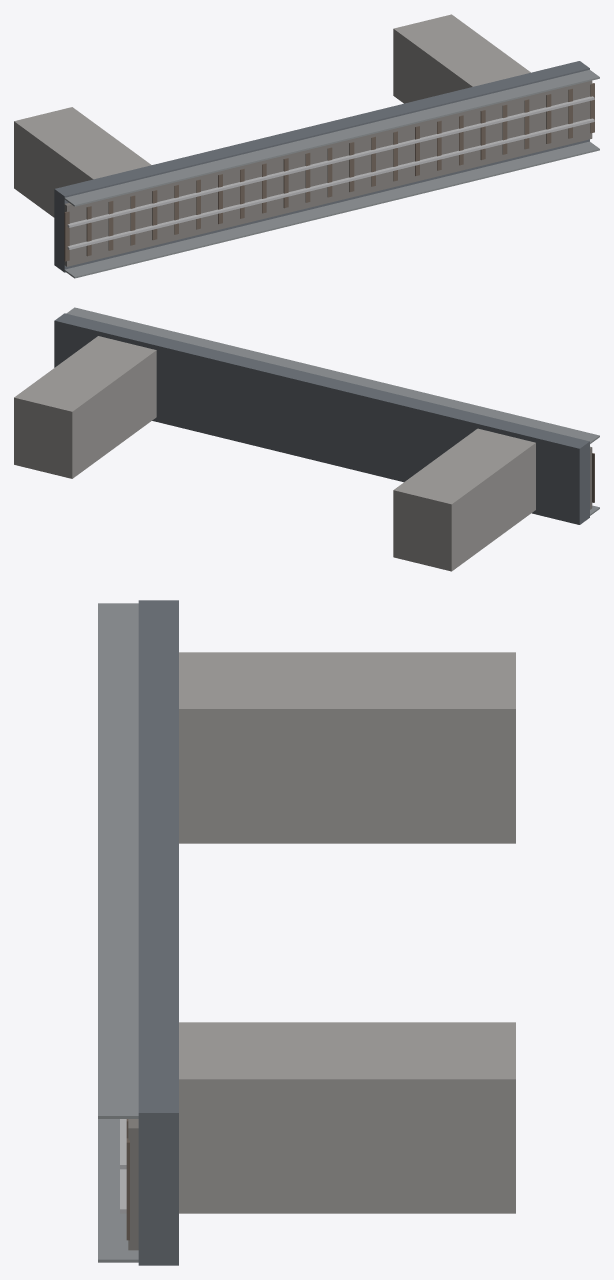
Rendered from railway_viaduct.glb.
3 renders of one model, top to bottom at view 1: azimuth 30°, elevation 25°; view 2: azimuth 150°, elevation 25°; view 3: azimuth 270°, elevation 25°, orthographic. The views are drawn at different scales.
Size of the model in its own units: 36.3 by 5 by 12.4.
